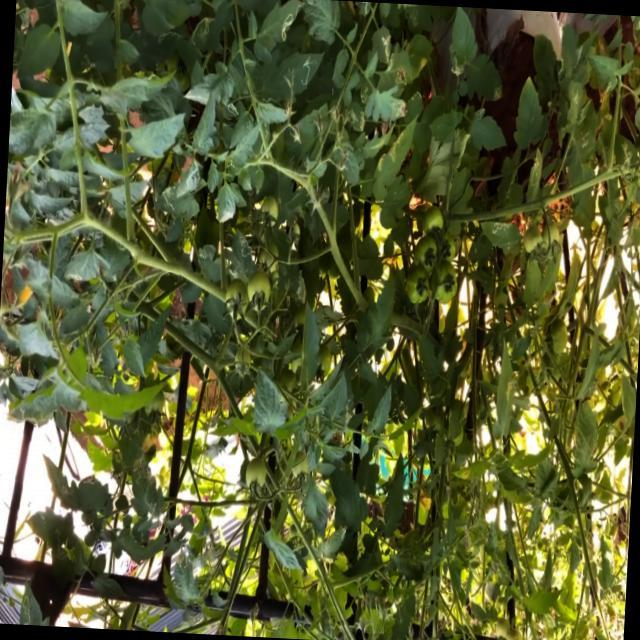Tomato target spot leaf: (371, 111, 419, 204), (262, 46, 325, 106), (251, 0, 305, 69), (41, 457, 83, 515), (448, 6, 479, 78), (127, 452, 159, 519), (465, 53, 505, 105), (363, 81, 408, 126), (466, 108, 508, 154), (479, 220, 524, 258), (19, 576, 52, 626), (228, 228, 256, 284), (154, 184, 193, 216), (188, 14, 216, 52), (525, 148, 543, 204), (370, 24, 392, 65), (51, 530, 70, 564), (346, 101, 366, 132), (156, 29, 182, 50), (409, 7, 422, 30)
